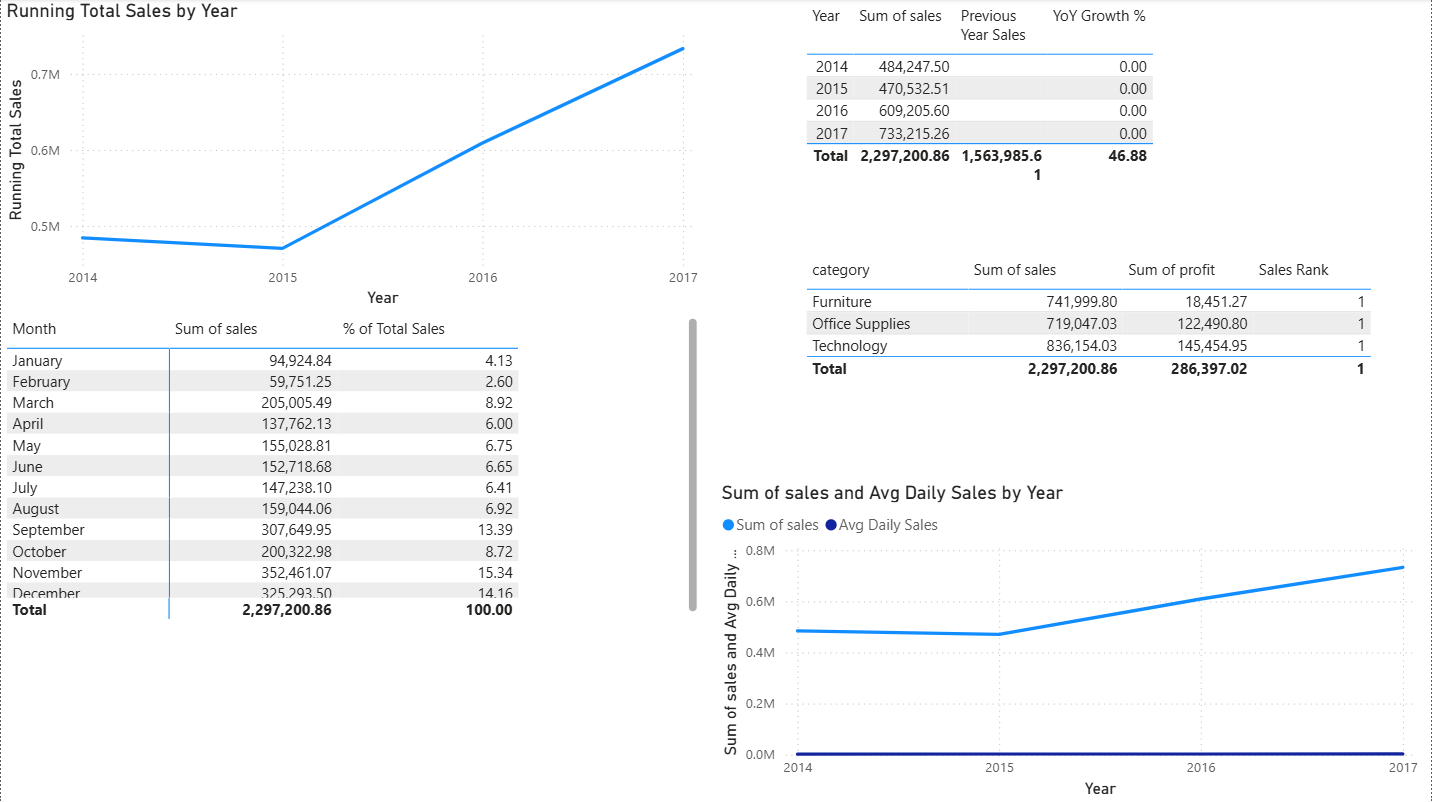

The page's visual inventory and layout, read from the dashboard file:
{"tool":"powerbi","page":{"name":"Advance Analytics","canvas":[1280,720],"ordinal":3},"visuals":[{"type":"lineChart","fields":{"Category":["public orders.order_date.Variation.Date Hierarchy.Year","public orders.order_date.Variation.Date Hierarchy.Quarter","public orders.order_date.Variation.Date Hierarchy.Month","public orders.order_date.Variation.Date Hierarchy.Day"],"Y":["public orders.Running Total Sales"]},"box":[0,0,628.7,280.3],"z":0},{"type":"tableEx","fields":{"Values":["public orders.order_date.Variation.Date Hierarchy.Year","Sum(public orders.sales)","public orders.Previous Year Sales","public orders.YoY Growth %"]},"box":[715.5,0,564.2,291],"z":1},{"type":"pivotTable","fields":{"Rows":["public orders.order_date.Variation.Date Hierarchy.Month"],"Values":["Sum(public orders.sales)","public orders.% of Total Sales"]},"box":[0,280.3,628.7,280.3],"z":2},{"type":"tableEx","fields":{"Values":["public orders.category","Sum(public orders.sales)","Sum(public orders.profit)","public orders.Sales Rank"]},"box":[715.5,227.5,564.2,210.4],"z":3},{"type":"lineChart","fields":{"Category":["public orders.order_date.Variation.Date Hierarchy.Year","public orders.order_date.Variation.Date Hierarchy.Quarter","public orders.order_date.Variation.Date Hierarchy.Month","public orders.order_date.Variation.Date Hierarchy.Day"],"Y":["Sum(public orders.sales)","public orders.Avg Daily Sales"]},"box":[640.3,431.6,633.1,288.4],"z":4}]}

Visuals, with their boxes in screenshot pixels (x1, y1, x2, y2), scaled from the page's 1280x720 canvas onto the 1432x802 screenshot:
lineChart - public orders.order_date.Variation.Date Hierarchy.Year x public orders.order_date.Variation.Date Hierarchy.Quarter: bbox=(0, 0, 703, 312)
tableEx - public orders.order_date.Variation.Date Hierarchy.Year x Sum(public orders.sales): bbox=(800, 0, 1431, 324)
pivotTable - public orders.order_date.Variation.Date Hierarchy.Month x Sum(public orders.sales): bbox=(0, 312, 703, 624)
tableEx - public orders.category x Sum(public orders.sales): bbox=(800, 253, 1431, 488)
lineChart - public orders.order_date.Variation.Date Hierarchy.Year x public orders.order_date.Variation.Date Hierarchy.Quarter: bbox=(716, 481, 1425, 801)
